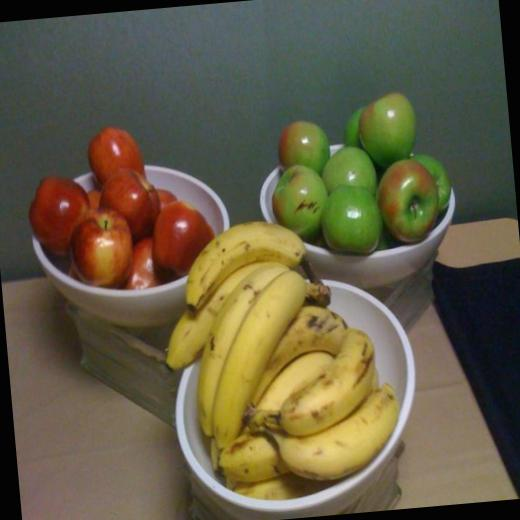Banana: (152, 205, 406, 509), (236, 325, 384, 444)
